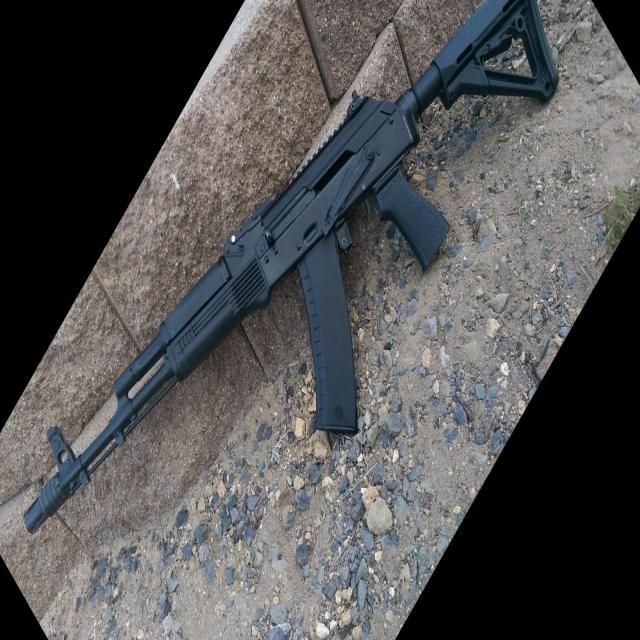weapon: (23, 1, 560, 536)
